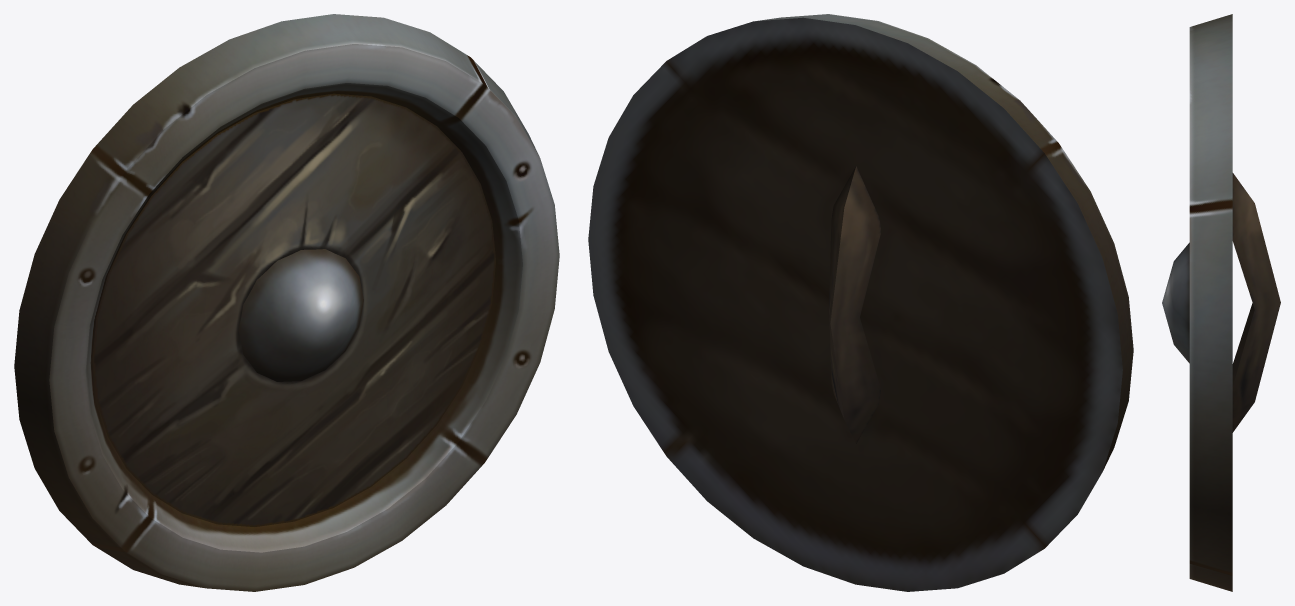
Rendered from Shield01.fbx.
The picture shows the model from 3 angles, left to right: view 1: azimuth 30°, elevation 25°; view 2: azimuth 150°, elevation 25°; view 3: azimuth 270°, elevation 25°; orthographic projection. The views are drawn at different scales.
Parts seen in each view (by area): view 1: Shield01; view 2: Shield01; view 3: Shield01.
Boxes of the visible parts, bbox=[...] form: Shield01: bbox=[14, 14, 559, 591]; Shield01: bbox=[588, 14, 1133, 591]; Shield01: bbox=[1162, 14, 1280, 591].
Bounding box in the file's own units: 0.7942 × 0.7942 × 0.1633.
